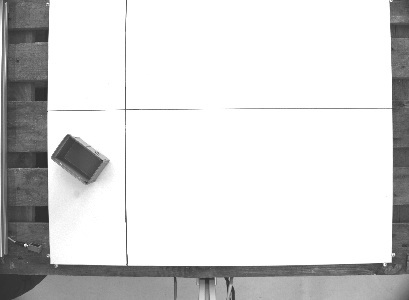kltxs: (48, 131, 111, 185)
